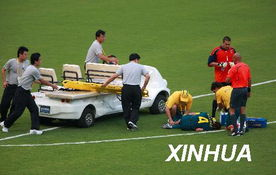fall: (162, 108, 221, 134)
